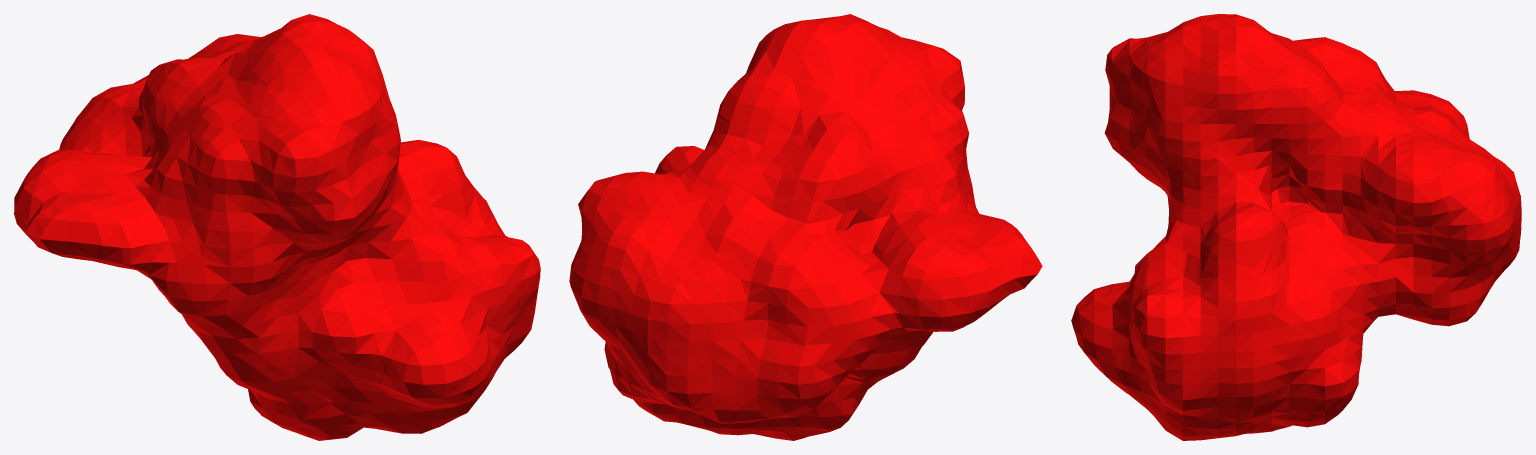
File: sthA_coarse.dae
The picture shows the model from 3 angles, left to right: view 1: azimuth 30°, elevation 25°; view 2: azimuth 150°, elevation 25°; view 3: azimuth 270°, elevation 25°; orthographic projection. The views are drawn at different scales.
Parts seen in each view (by area): view 1: sthA; view 2: sthA; view 3: sthA.
Boxes of the visible parts, left/top/right/bottom form: sthA: left=14, top=14, right=540, bottom=440; sthA: left=569, top=14, right=1042, bottom=440; sthA: left=1071, top=14, right=1521, bottom=440.
Size of the model in its own units: 73.57 by 66.66 by 70.48.
